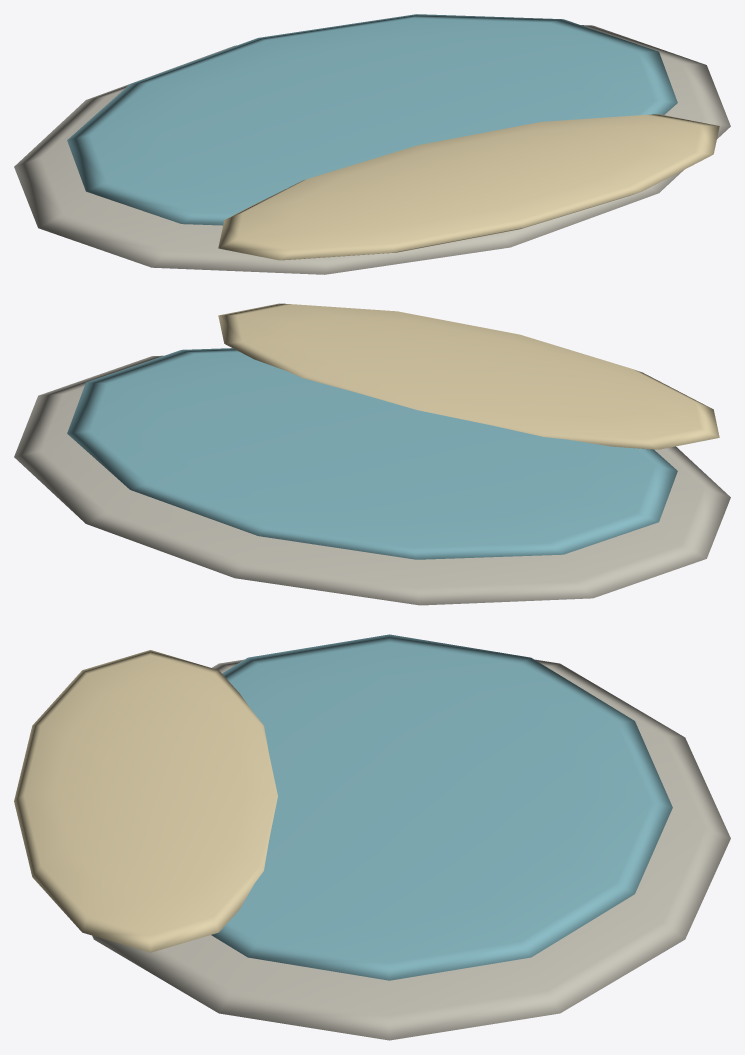
Rendered from zoo-and-safari-park-builder-pool-with-beach-7a1a09e5__21471.glb.
3 views of the same model, one above another, from view 1: azimuth 30°, elevation 25°; view 2: azimuth 150°, elevation 25°; view 3: azimuth 270°, elevation 25° (orthographic). The views are drawn at different scales.
Parts seen in each view (by area): view 1: pool-with-beach; view 2: pool-with-beach; view 3: pool-with-beach.
Part boxes in pixels (box(x1,y1,x2,y2)): pool-with-beach: box(14, 14, 730, 274); pool-with-beach: box(14, 303, 730, 605); pool-with-beach: box(14, 634, 730, 1040).
Size of the model in its own units: 2.8 by 0.25 by 2.1.
